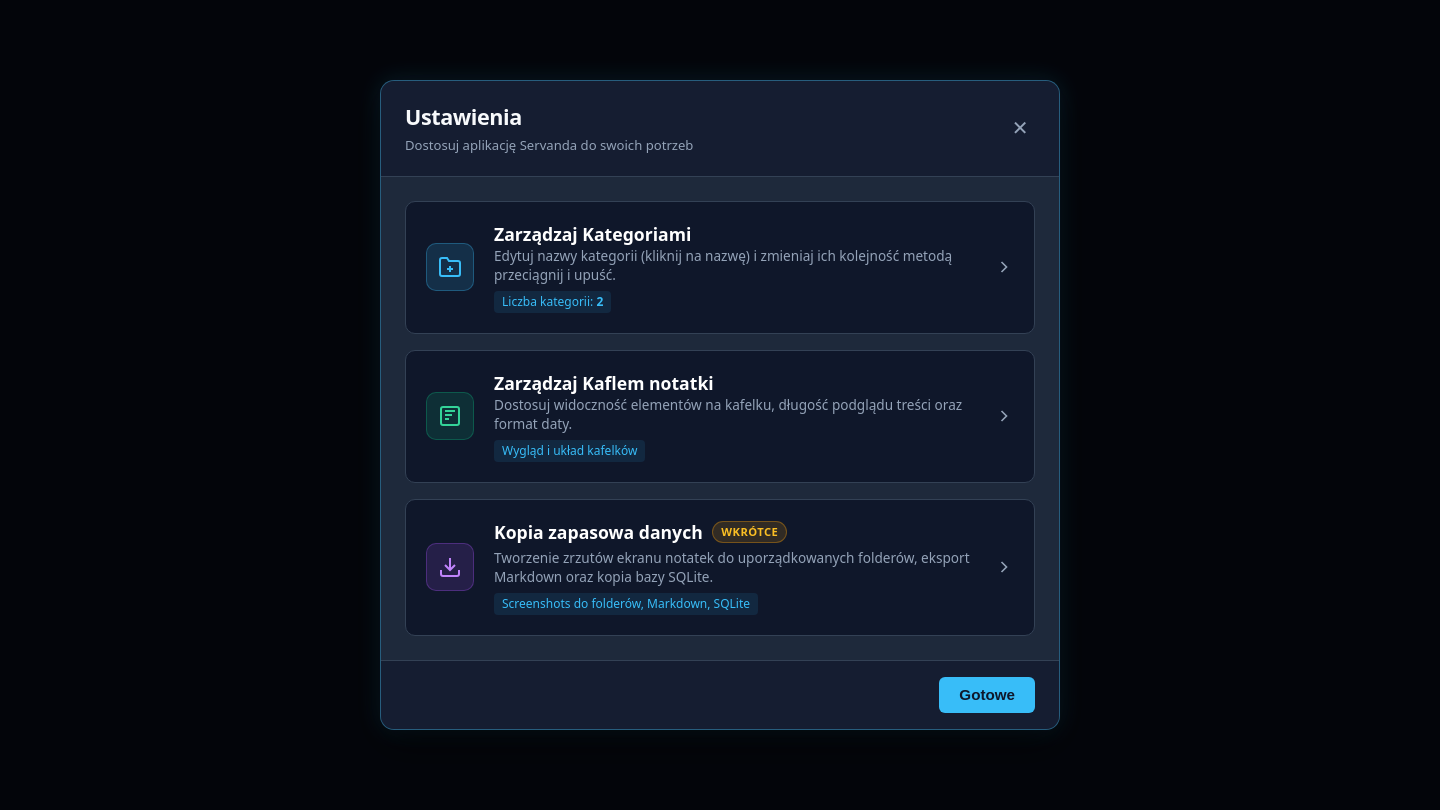
Test case: SettingsModal › cancels category name editing on cancel button click or Escape
// Go to categories subview
Click the button with test id "settings-option-categories": {"x": 720, "y": 267} [405,201,1035,334]
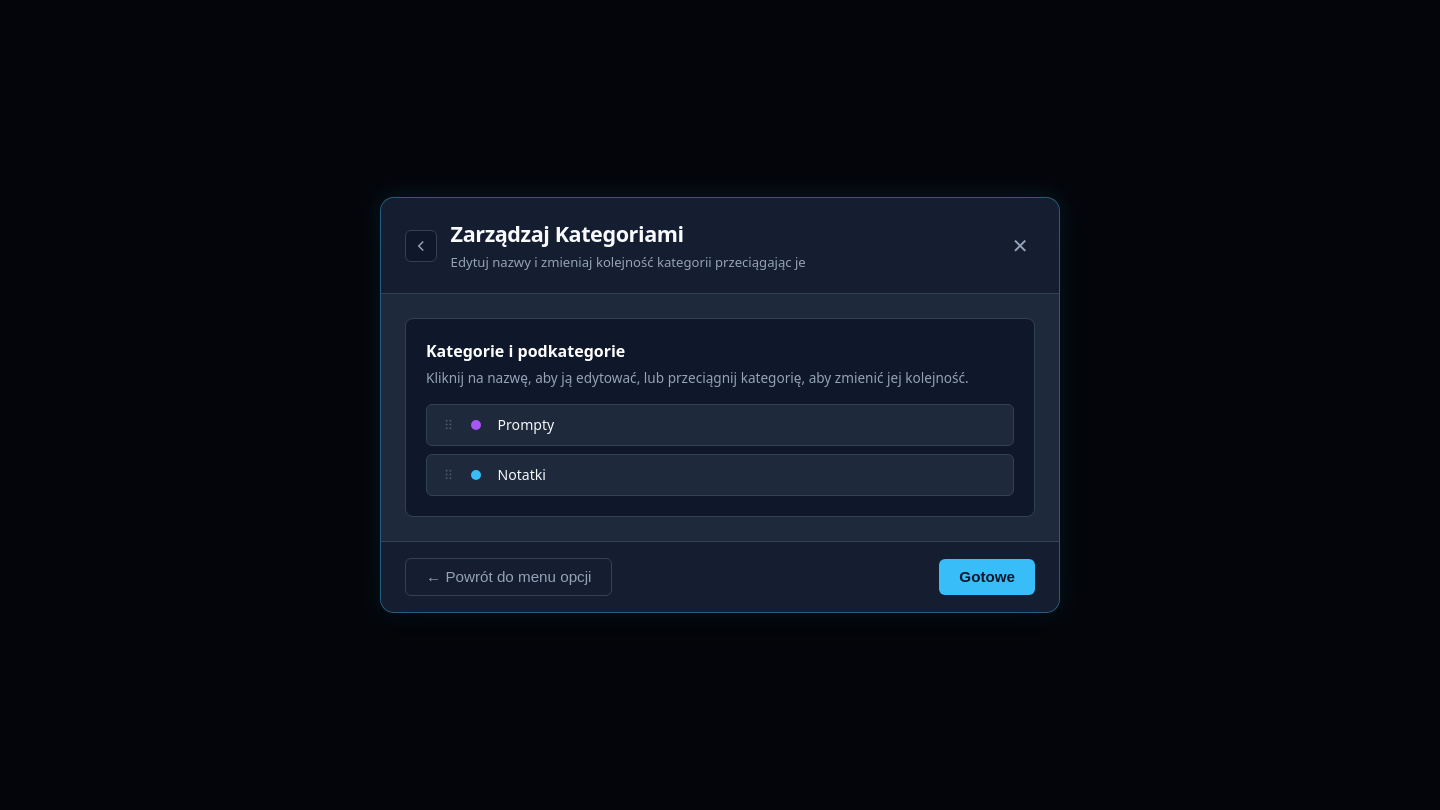
// Start editing
Click the button with test id "category-name-btn-cat-1": {"x": 526, "y": 425} [490,412,1001,438]
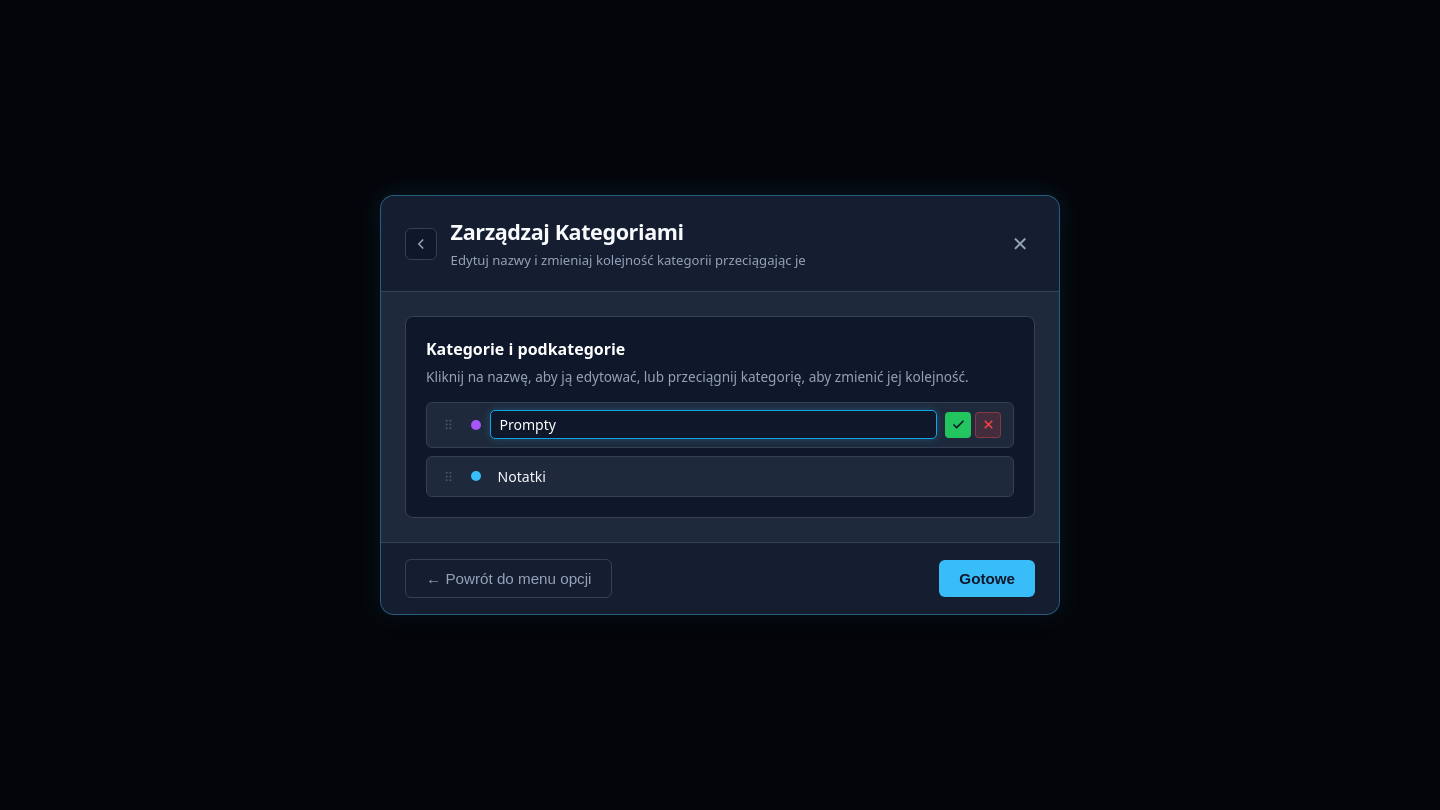
Check: the field with test id "category-edit-input-cat-1" is shown, box [490,410,937,439]
// Click cancel button
Click the button with test id "category-cancel-btn-cat-1": {"x": 988, "y": 425} [975,412,1001,438]
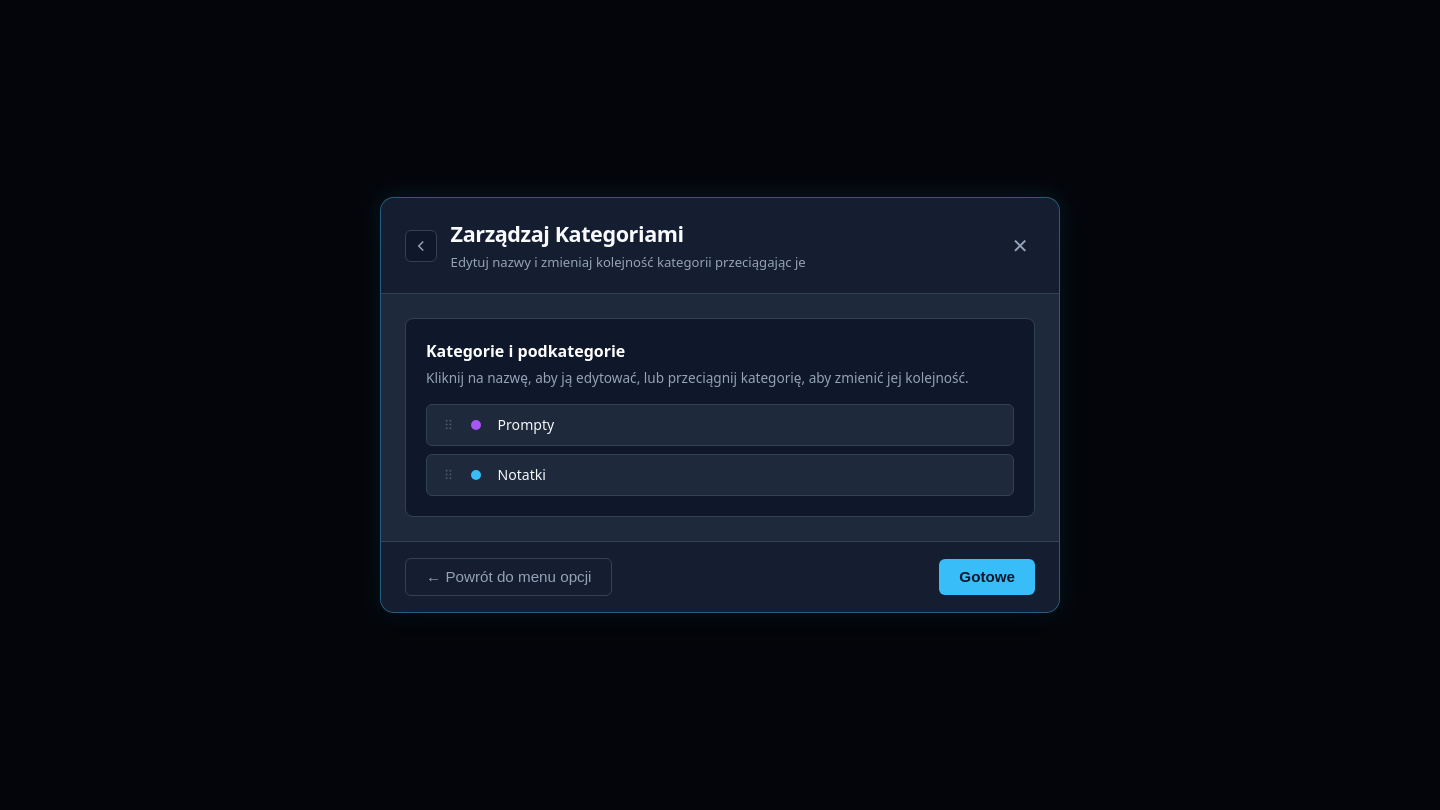
Check: the field with test id "category-edit-input-cat-1" is gone
Check: the button with test id "category-name-btn-cat-1" is shown, box [490,412,1001,438]
